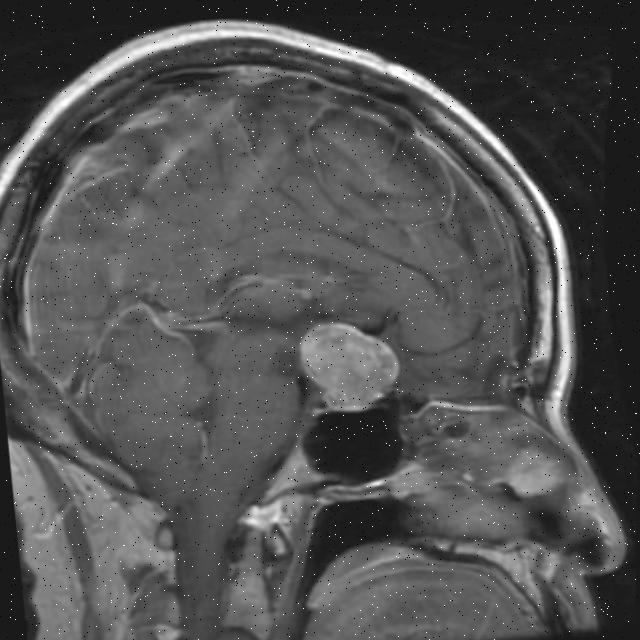Pituitary: (295, 315, 404, 420)
